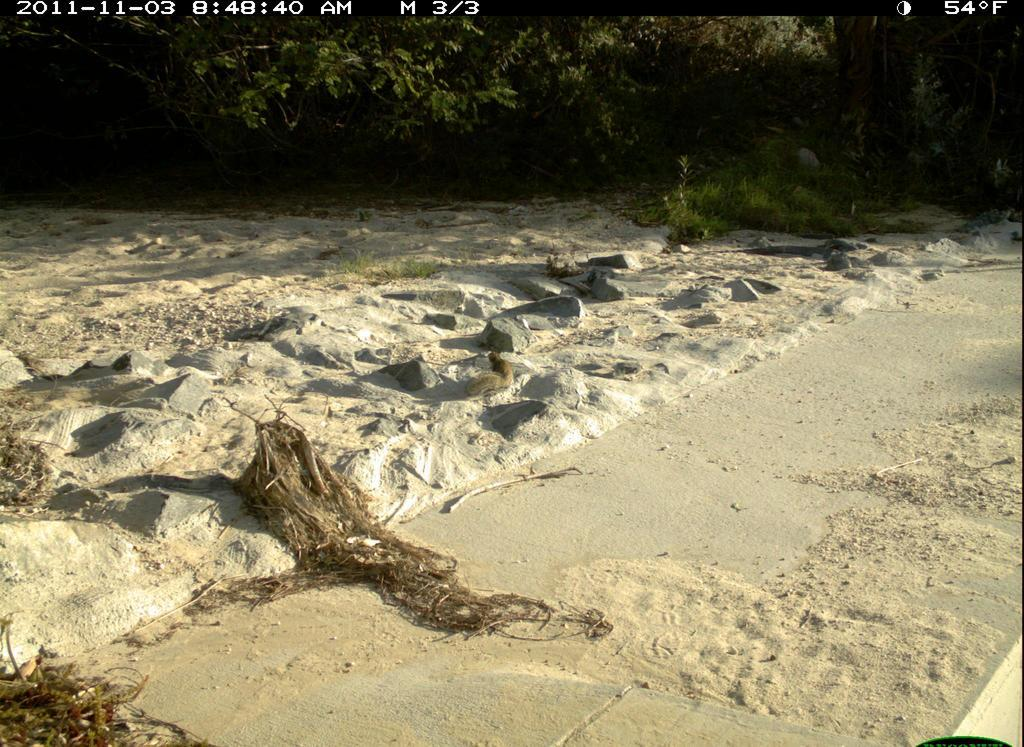squirrel: (461, 346, 520, 409)
